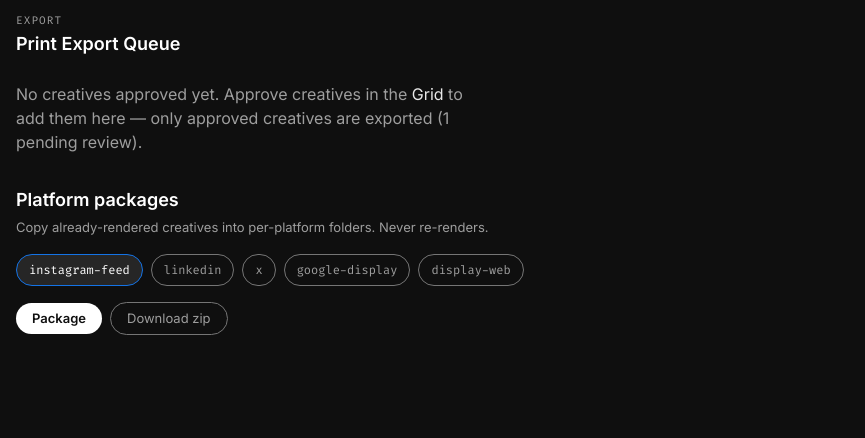
Scenario: ExportPage — platform packaging › a display package row names its size, not a ratio (D113)
Check: the element named "Platforms" is shown, box [16,254,524,286]
Click the button "google-display" at (347, 270), box [284,254,410,286]
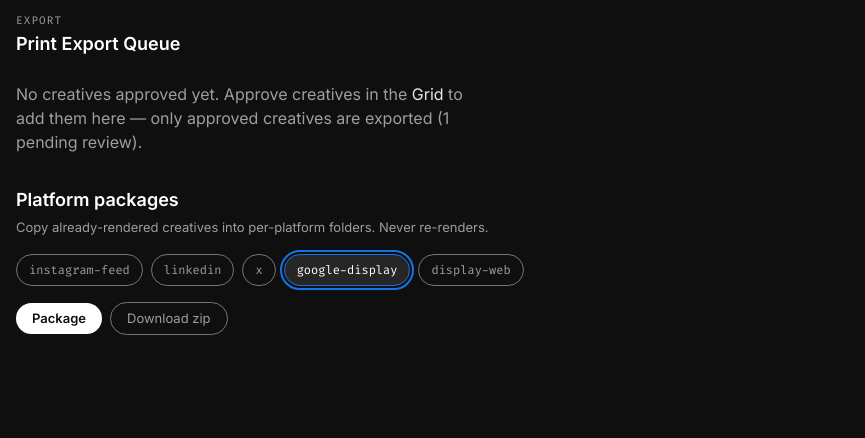
Click the button "Package" at (59, 318), box [16,302,102,334]
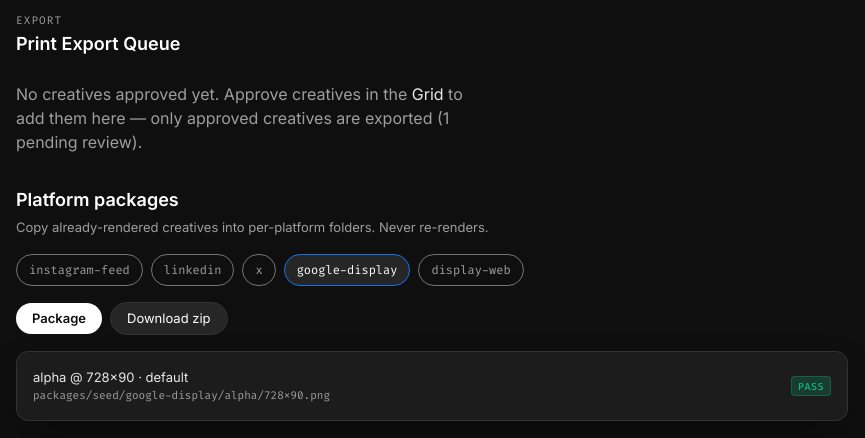
Check: the text "packages/seed/google-display/alpha/728x90.png" is shown, box [33,388,330,404]
Check: the text "alpha @ 728x90 · default" is shown, box [33,369,188,385]
